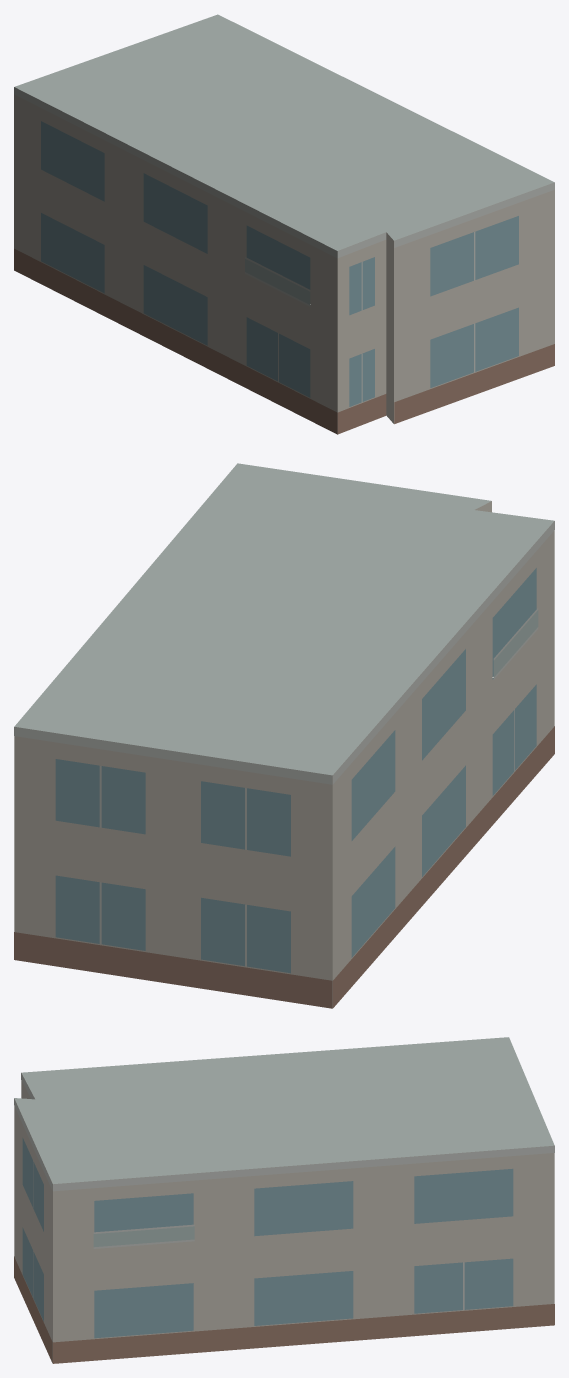
The model's file is survey-upis-32578827.glb.
The picture shows the model from 3 angles, top to bottom: view 1: azimuth 30°, elevation 25°; view 2: azimuth 150°, elevation 25°; view 3: azimuth 270°, elevation 25°; orthographic projection. The views are drawn at different scales.
Visible parts, largest first — view 1: survey-upis-32578827.tmp; view 2: survey-upis-32578827.tmp; view 3: survey-upis-32578827.tmp.
Boxes of the visible parts, box(x1,y1,x2,y2) form: survey-upis-32578827.tmp: box(14, 14, 554, 434); survey-upis-32578827.tmp: box(14, 463, 554, 1008); survey-upis-32578827.tmp: box(14, 1037, 554, 1363).
Bounding box in the file's own units: 10.72 × 6.1 × 16.65.
